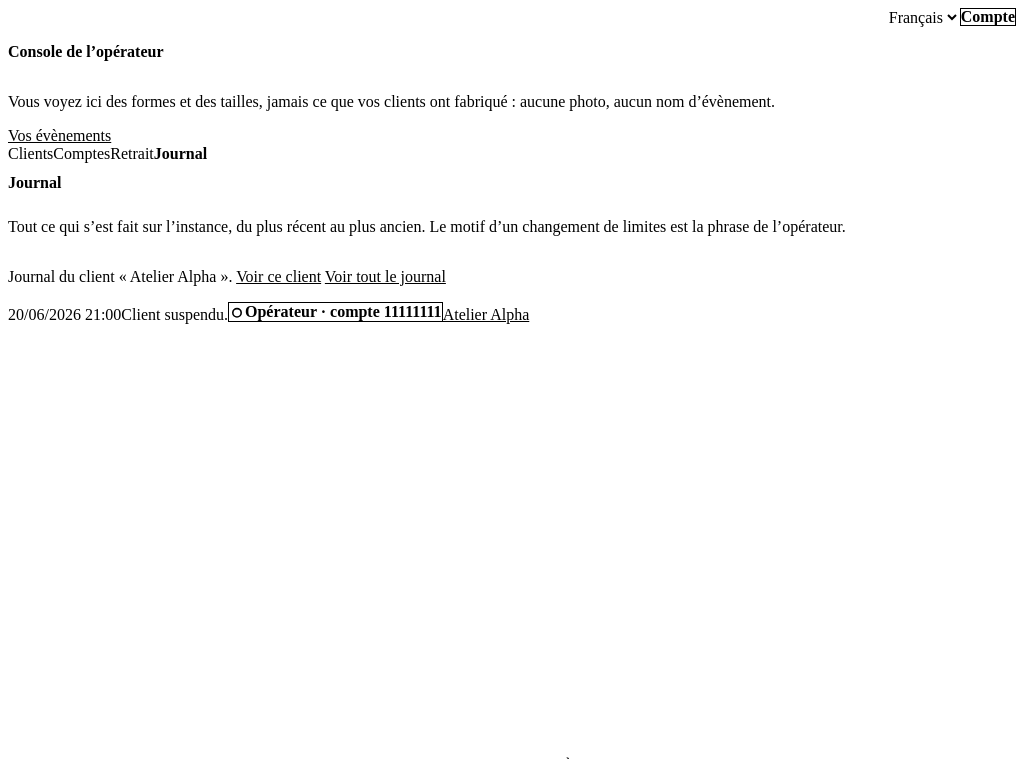
Test: the console’s log › does not leave one client’s lines on screen while the whole log is on its way
Expected: the text "Client suspendu." is shown, [121,306,228,324]
Click the link "Voir tout le journal": (385, 277) [325,268,446,285]
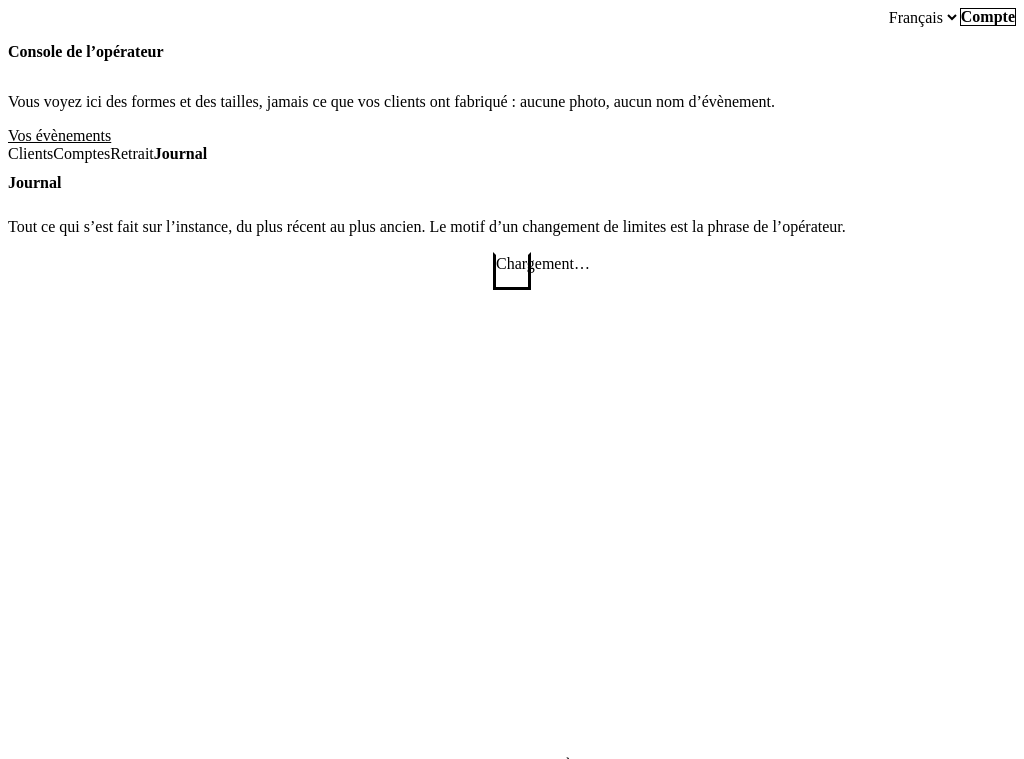
Now the text "Client suspendu." is gone
Now the message reads "Chargement…", box [496,255,590,272]
